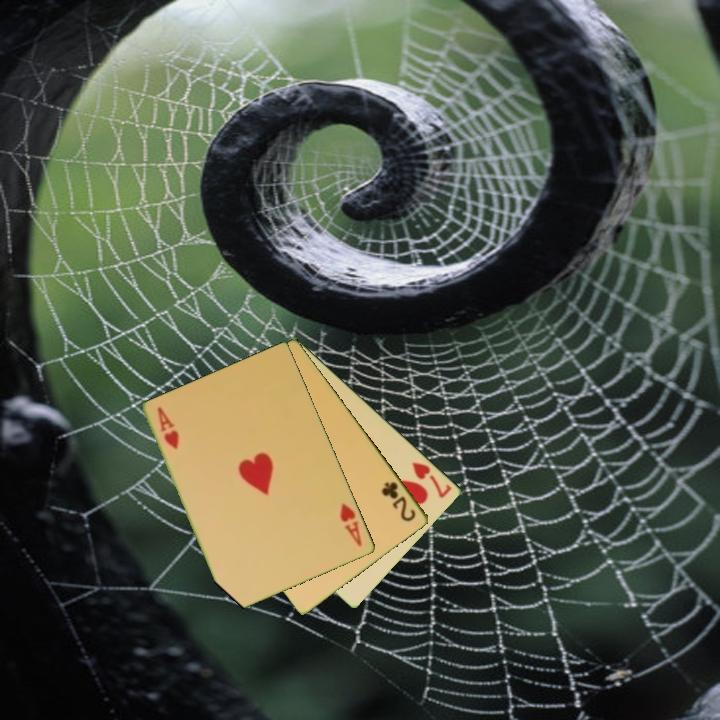2c: (378, 478, 419, 525)
7h: (409, 458, 455, 501)
Ah: (337, 499, 365, 549), (154, 403, 182, 452)
